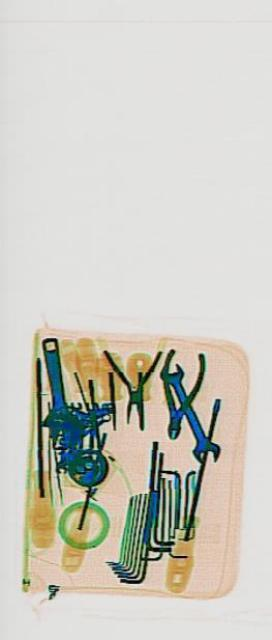Pliers: (152, 330, 203, 450)
Wrench: (156, 340, 219, 480), (32, 324, 81, 468)
